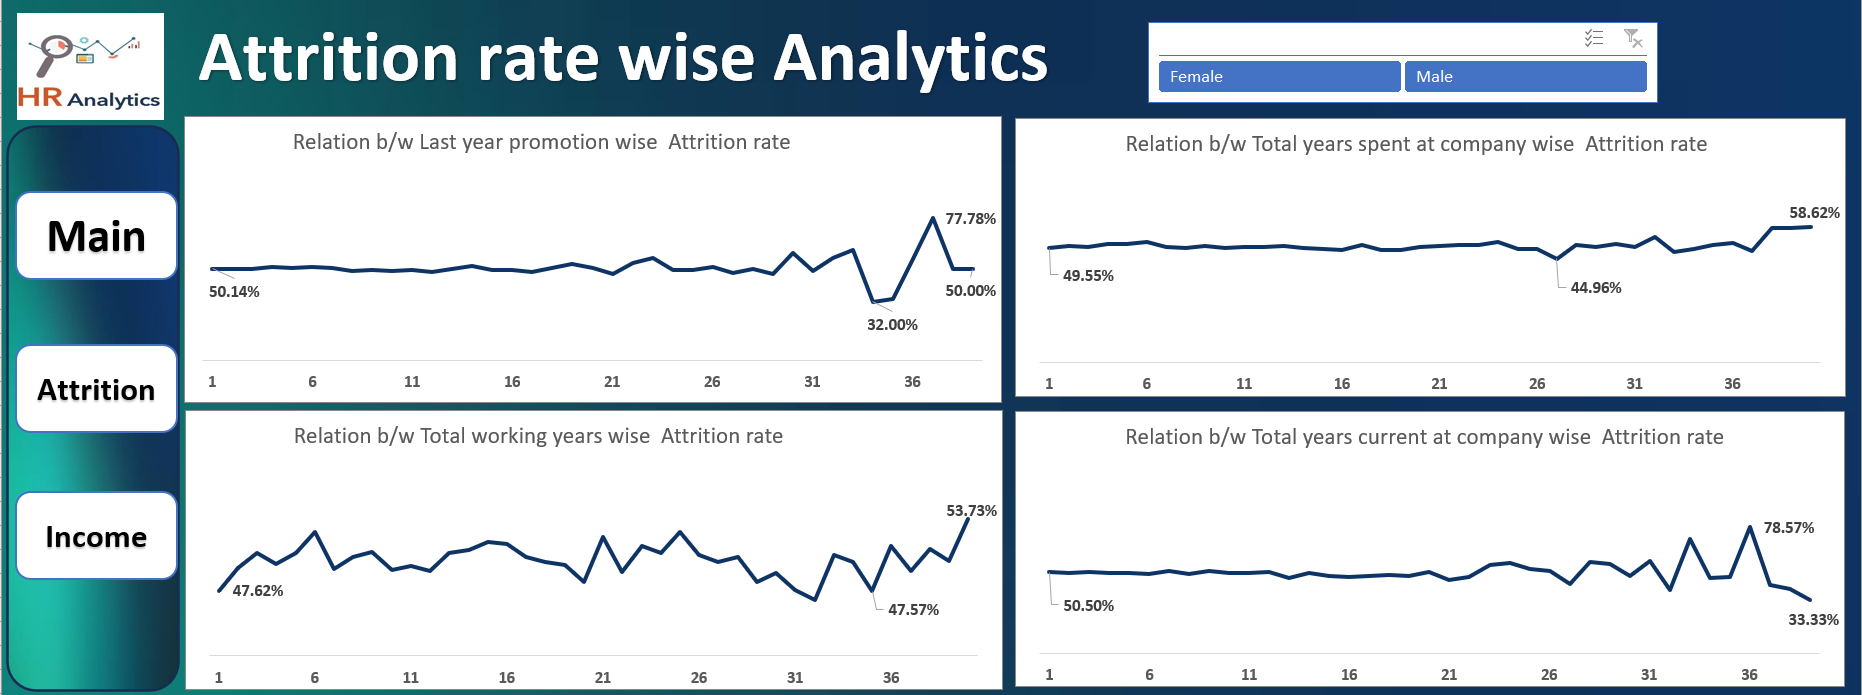

The page's visual inventory and layout, read from the dashboard file:
{"tool":"powerbi","page":{"name":"2","canvas":[1280,720],"ordinal":2},"visuals":[{"type":"shape","box":[101.2,15.5,821.4,97.6],"z":0},{"type":"group","id":"g1","title":"Group 1","box":[3.6,267.8,138.1,332.1],"z":0,"group":"g2"},{"type":"lineChart","title":"Relation b/w Attrition rate (%) by YearsSinceLastPromotion","fields":{"Y":["HR_1.Attrition rate (%)"],"Category":["HR_2.YearsSinceLastPromotion"]},"box":[146.4,128.6,569.1,295.2],"z":1000},{"type":"image","title":"Main","box":[35.7,157.1,77.4,79.8],"z":1000,"group":"g2"},{"type":"lineChart","title":"Relation b/w Attrition rate (%) by total working years","fields":{"Y":["HR_1.Attrition rate (%)"],"Category":["HR_2.TotalWorkingYears"]},"box":[146.4,434.5,569.1,273.8],"z":2000},{"type":"lineChart","title":"Relation b/w Attrition rate (%) by total years spent at company","fields":{"Y":["HR_1.Attrition rate (%)"],"Category":["HR_2.YearsAtCompany"]},"box":[726.2,128.6,540.5,289.3],"z":3000},{"type":"lineChart","title":"Relation b/w Attrition rate (%) by total years  at current company","fields":{"Y":["HR_1.Attrition rate (%)"],"Category":["HR_2.YearsInCurrentRole"]},"box":[726.2,434.5,540.5,271.4],"z":4000},{"type":"slicer","fields":{"Values":["HR_2.work balance status"]},"box":[922.6,36.9,320.2,76.2],"z":5000},{"type":"slicer","fields":{"Values":["HR_1.Gender"]},"box":[3.6,267.8,138.1,81],"z":5000,"group":"g1"},{"type":"group","id":"g2","title":"Group 2","box":[3.6,157.1,138.1,442.9],"z":6000},{"type":"slicer","fields":{"Values":["HR_1.BusinessTravel"]},"box":[8.4,519,129.8,81],"z":6000,"group":"g1"},{"type":"image","box":[7.1,17.9,97.6,95.2],"z":7000}]}

Visuals, with their boxes on the page's 1280x720 design canvas (x1, y1, x2, y2). These are canvas units, not pixel positions in the 1862x695 screenshot, which may show the page scaled, cropped or inside an application window:
shape: pyautogui.locateOnScreen(101, 16, 923, 113)
"Group 1" group: pyautogui.locateOnScreen(4, 268, 142, 600)
"Relation b/w Attrition rate (%) by YearsSinceLastPromotion" lineChart: pyautogui.locateOnScreen(146, 129, 716, 424)
"Main" image: pyautogui.locateOnScreen(36, 157, 113, 237)
"Relation b/w Attrition rate (%) by total working years" lineChart: pyautogui.locateOnScreen(146, 434, 716, 708)
"Relation b/w Attrition rate (%) by total years spent at company" lineChart: pyautogui.locateOnScreen(726, 129, 1267, 418)
"Relation b/w Attrition rate (%) by total years  at current company" lineChart: pyautogui.locateOnScreen(726, 434, 1267, 706)
slicer - HR_2.work balance status: pyautogui.locateOnScreen(923, 37, 1243, 113)
slicer - HR_1.Gender: pyautogui.locateOnScreen(4, 268, 142, 349)
"Group 2" group: pyautogui.locateOnScreen(4, 157, 142, 600)
slicer - HR_1.BusinessTravel: pyautogui.locateOnScreen(8, 519, 138, 600)
image: pyautogui.locateOnScreen(7, 18, 105, 113)
